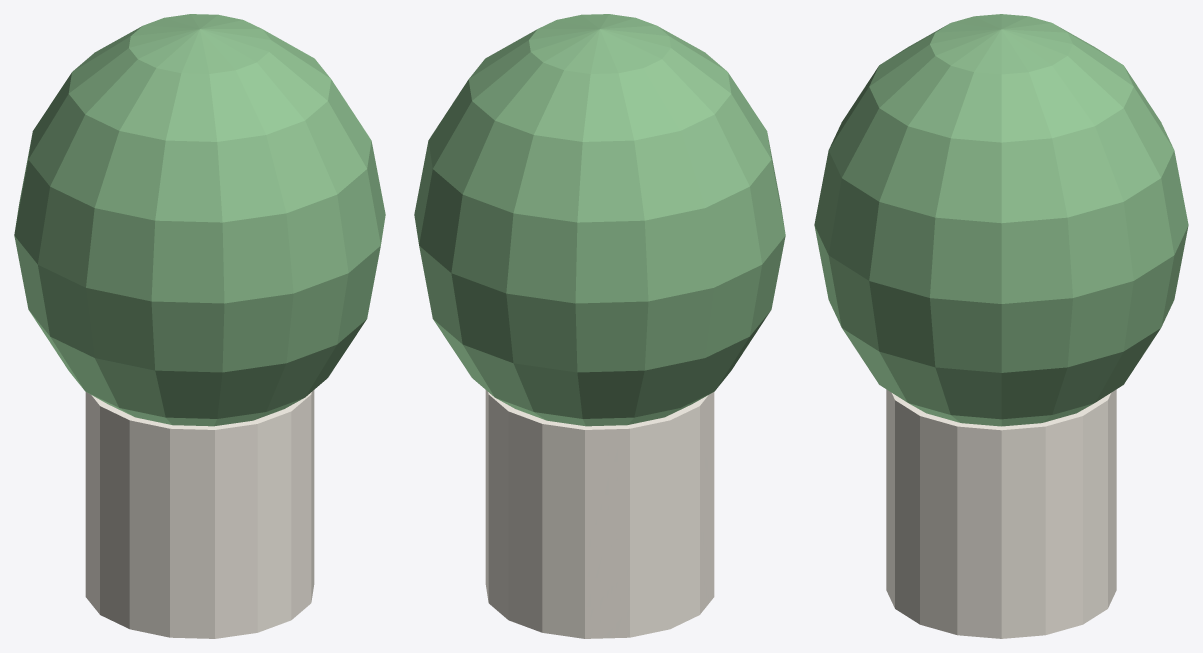
The model's file is PottedPlant.glb.
The picture shows the model from 3 angles, left to right: view 1: azimuth 30°, elevation 25°; view 2: azimuth 150°, elevation 25°; view 3: azimuth 270°, elevation 25°; orthographic projection.
Parts seen in each view (by area): view 1: PottedPlant_0, PottedPlant_1; view 2: PottedPlant_0, PottedPlant_1; view 3: PottedPlant_0, PottedPlant_1.
Boxes of the visible parts, box(x1,y1,x2,y2) form: PottedPlant_0: box(14, 14, 385, 426); PottedPlant_1: box(85, 390, 314, 638); PottedPlant_0: box(414, 14, 785, 426); PottedPlant_1: box(485, 390, 714, 638); PottedPlant_0: box(814, 14, 1188, 426); PottedPlant_1: box(886, 389, 1116, 638).
Bounding box in the file's own units: 2.6 × 4.3 × 2.6.
